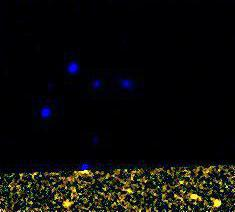star: (53, 190, 83, 212)
